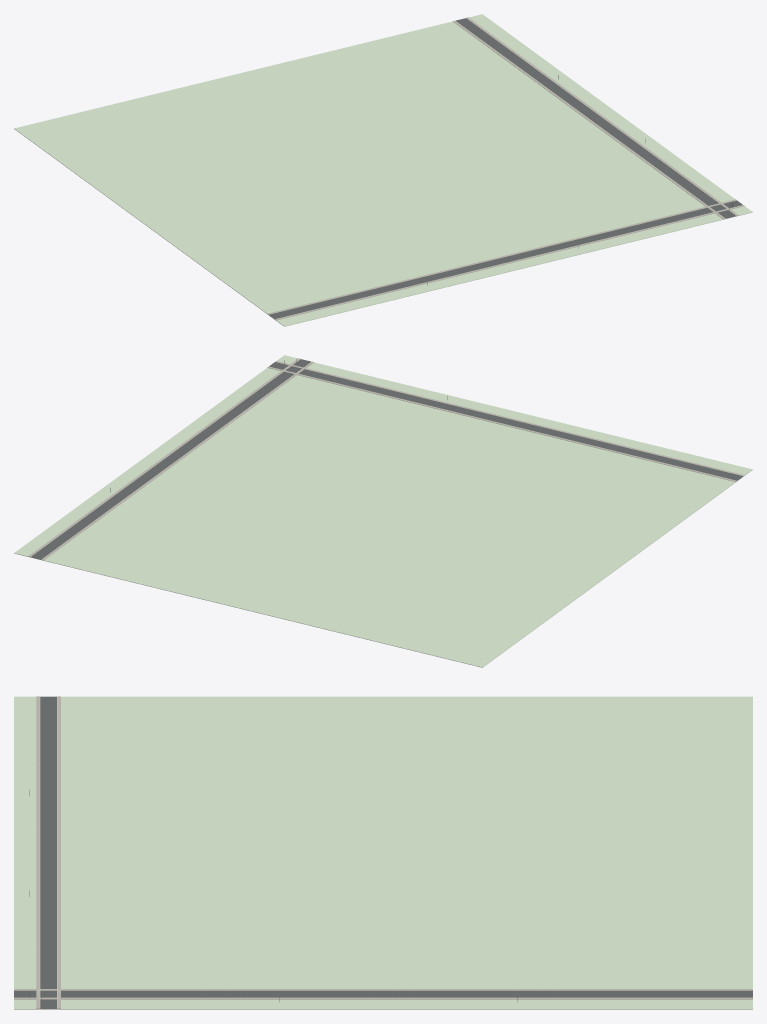
The model's file is chunk_5_5_low.glb.
3 renders of one model, top to bottom at view 1: azimuth 30°, elevation 25°; view 2: azimuth 150°, elevation 25°; view 3: azimuth 270°, elevation 25°, orthographic. The views are drawn at different scales.
Visible parts, largest first — view 1: city_grass, city_world_asphalt, city_world_sidewalk, city_curb; view 2: city_grass, city_world_asphalt, city_world_sidewalk, city_curb; view 3: city_grass, city_world_asphalt, city_world_sidewalk, city_curb.
Part boxes in pixels (x1,y1,x2,y2): city_grass: [14, 14, 752, 326]; city_world_asphalt: [269, 18, 742, 318]; city_world_sidewalk: [267, 17, 744, 320]; city_curb: [269, 18, 742, 319]; city_grass: [14, 355, 752, 667]; city_world_asphalt: [31, 359, 742, 559]; city_world_sidewalk: [28, 358, 744, 560]; city_curb: [30, 359, 743, 559]; city_grass: [14, 696, 752, 1009]; city_world_asphalt: [14, 696, 752, 1008]; city_world_sidewalk: [14, 696, 752, 1008]; city_curb: [14, 696, 752, 1008].
Size of the model in its own units: 512 by 5.42 by 512.
